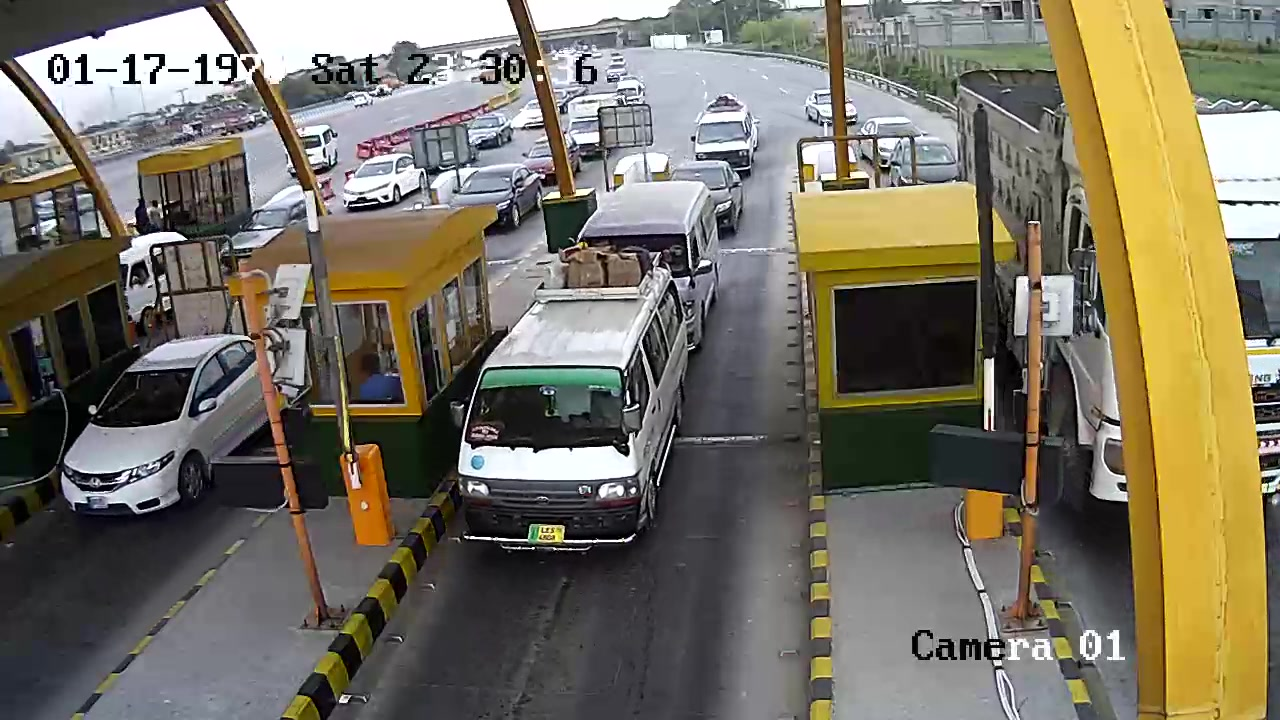F2: (443, 245, 706, 563)
